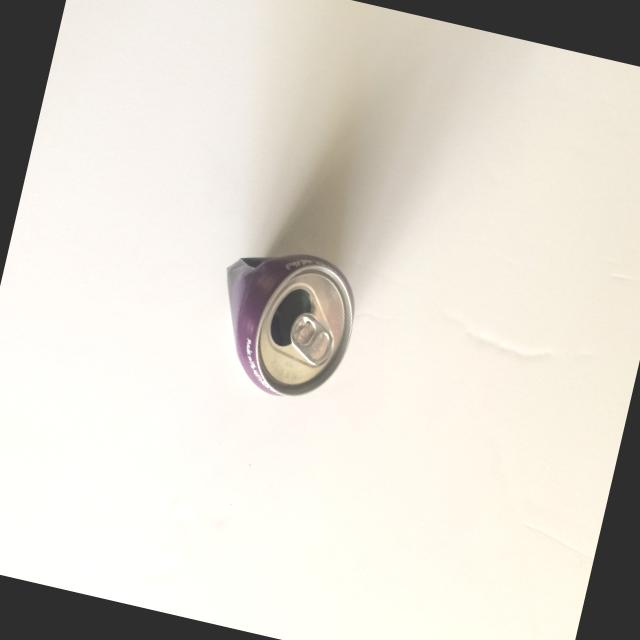Metal: (182, 190, 386, 433)
